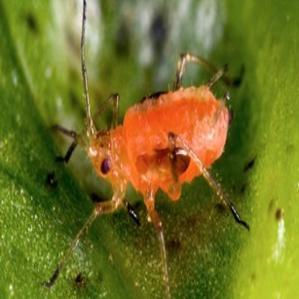Green peach aphid: (12, 4, 270, 294)
